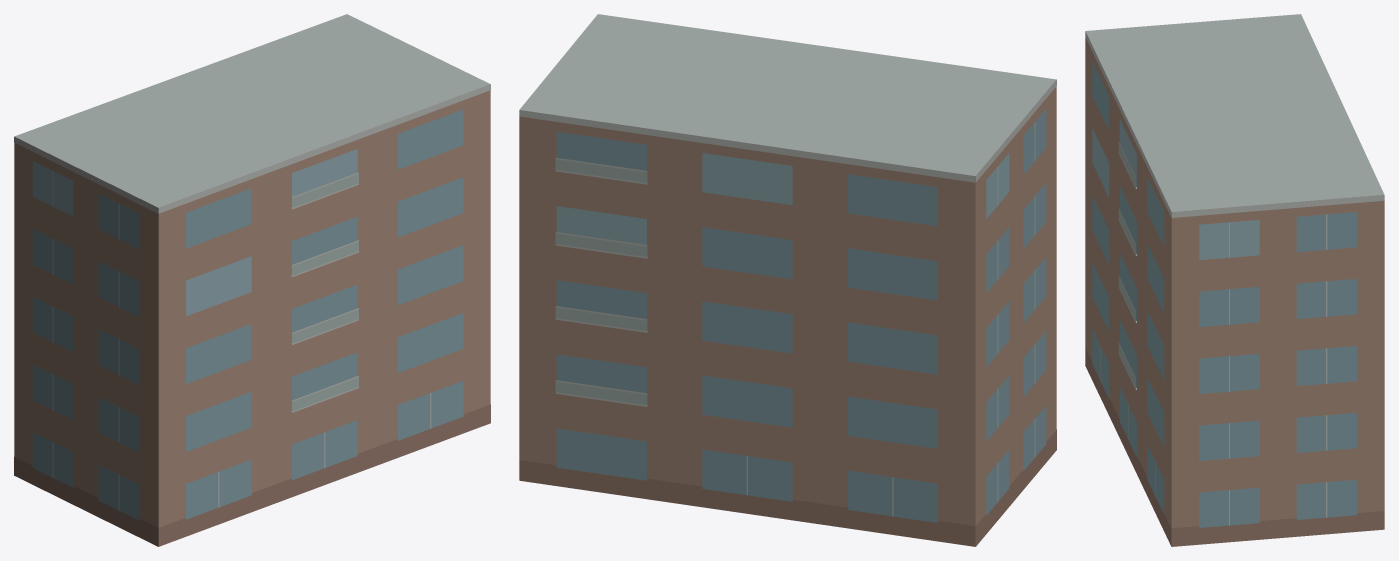
Rendered from survey-upis-32889388.glb.
3 renders of one model, left to right at view 1: azimuth 30°, elevation 25°; view 2: azimuth 150°, elevation 25°; view 3: azimuth 270°, elevation 25°, orthographic. The views are drawn at different scales.
Parts seen in each view (by area): view 1: survey-upis-32889388.tmp; view 2: survey-upis-32889388.tmp; view 3: survey-upis-32889388.tmp.
Boxes of the visible parts, x1=… form: survey-upis-32889388.tmp: x1=14, y1=14, x2=490, y2=546; survey-upis-32889388.tmp: x1=519, y1=14, x2=1056, y2=546; survey-upis-32889388.tmp: x1=1085, y1=14, x2=1384, y2=546.
Size of the model in its own units: 17.52 by 13.8 by 11.19.
